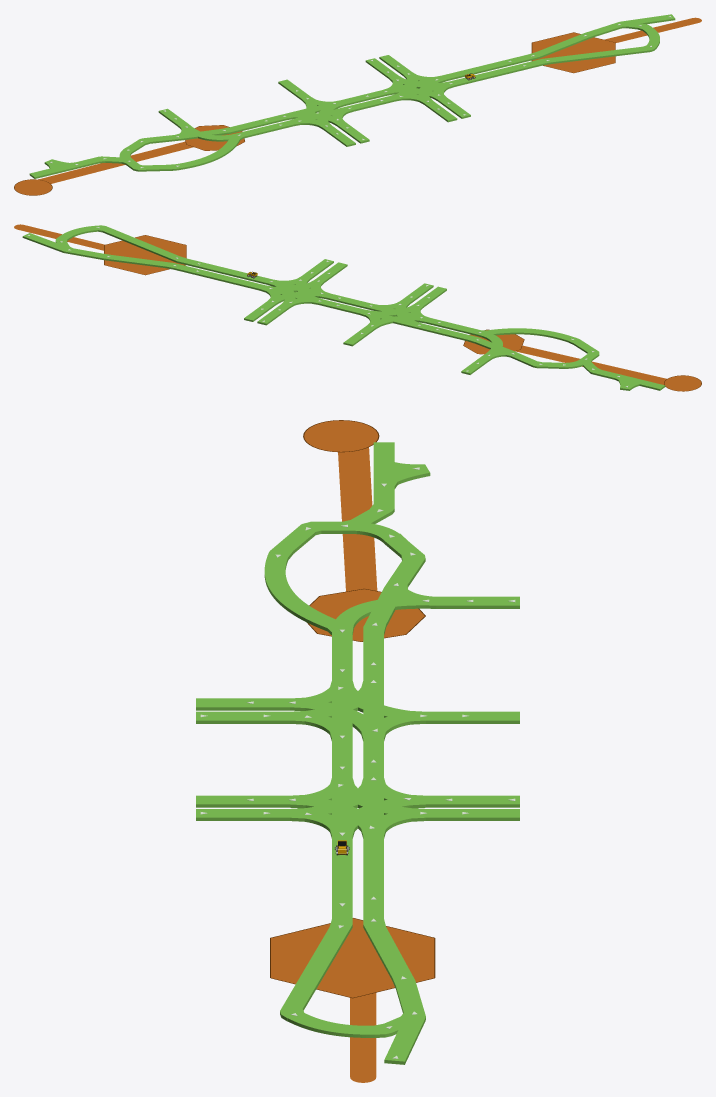
Rendered from MyModel.obj.
3 renders of one model, top to bottom at view 1: azimuth 30°, elevation 25°; view 2: azimuth 150°, elevation 25°; view 3: azimuth 270°, elevation 25°, orthographic. The views are drawn at different scales.
Visible parts, largest first — view 1: poly_fill_2, ribbon_3, seg_36, seg_85, ribbon_2, poly_fill_3, seg_39, seg_38, poly_fill_4, seg_34, seg_78, seg_37 (+2 smaller); view 2: poly_fill_2, ribbon_3, seg_36, seg_85, ribbon_2, poly_fill_3, seg_39, seg_38, poly_fill_4, seg_34, seg_35, seg_37 (+2 smaller); view 3: poly_fill_2, ribbon_3, poly_fill_3, seg_36, ribbon_2, seg_85, poly_fill_4, seg_39, seg_78, seg_38, seg_34, seg_35 (+1 smaller).
Part boxes in pixels (<box>): poly_fill_2: <box>532,32,615,72</box>; ribbon_3: <box>38,141,193,183</box>; seg_36: <box>543,46,650,63</box>; seg_85: <box>173,135,240,169</box>; ribbon_2: <box>604,17,701,42</box>; poly_fill_3: <box>185,125,244,150</box>; seg_39: <box>438,59,515,80</box>; seg_38: <box>445,65,523,86</box>; poly_fill_4: <box>14,179,51,195</box>; seg_34: <box>533,33,590,57</box>; seg_78: <box>181,124,237,141</box>; seg_37: <box>621,14,675,25</box>; poly_fill_2: <box>104,235,186,274</box>; ribbon_3: <box>516,345,666,384</box>; seg_36: <box>100,226,182,261</box>; seg_85: <box>484,328,578,342</box>; ribbon_2: <box>14,224,104,250</box>; poly_fill_3: <box>464,330,523,354</box>; seg_39: <box>192,268,268,290</box>; seg_38: <box>199,263,275,284</box>; poly_fill_4: <box>664,375,701,391</box>; seg_34: <box>103,255,172,267</box>; seg_35: <box>56,225,102,240</box>; seg_37: <box>22,233,64,252</box>; poly_fill_2: <box>271,918,434,997</box>; ribbon_3: <box>338,447,377,591</box>; poly_fill_3: <box>309,589,424,641</box>; seg_36: <box>280,923,352,1011</box>; ribbon_2: <box>350,993,376,1082</box>; seg_85: <box>264,552,347,631</box>; poly_fill_4: <box>304,420,378,451</box>; seg_39: <box>363,831,383,901</box>; seg_78: <box>332,596,436,628</box>; seg_38: <box>332,831,352,901</box>; seg_34: <box>363,923,414,981</box>; seg_35: <box>282,1009,384,1037</box>.
Bounding box in the file's own units: 150 × 1.42 × 31.
